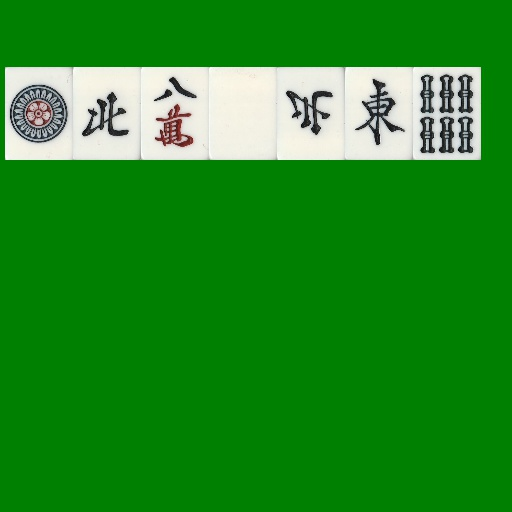1p: (5, 67, 73, 160)
6s: (413, 67, 481, 160)
8m: (141, 67, 209, 160)
east: (345, 67, 413, 160)
north: (73, 67, 141, 160), (277, 67, 345, 160)
white: (209, 67, 277, 160)
